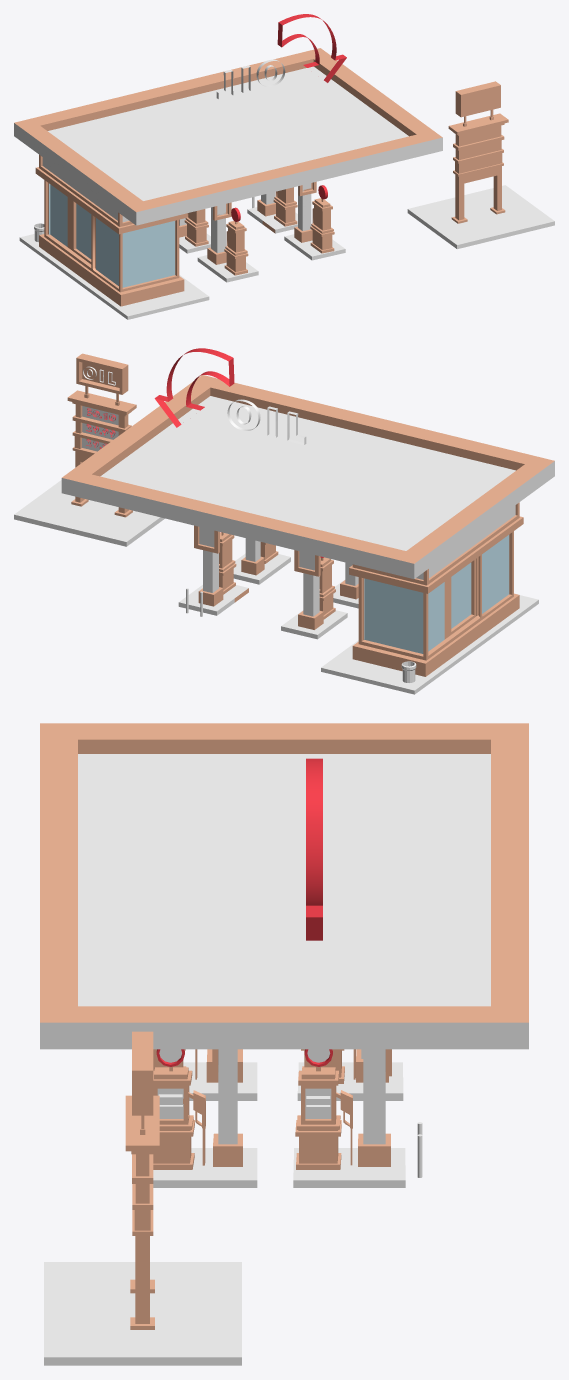
File: oil.glb
The picture shows the model from 3 angles, top to bottom: view 1: azimuth 30°, elevation 25°; view 2: azimuth 150°, elevation 25°; view 3: azimuth 270°, elevation 25°; orthographic projection. The views are drawn at different scales.
Parts seen in each view (by area): view 1: Trash_4; view 2: Trash_4; view 3: Trash_4.
Part boxes in pixels (x1,y1,x2,y2): Trash_4: (14, 14, 554, 319); Trash_4: (14, 348, 554, 694); Trash_4: (40, 723, 528, 1365).
Bounding box in the file's own units: 0.82 × 0.3851 × 0.4139.
